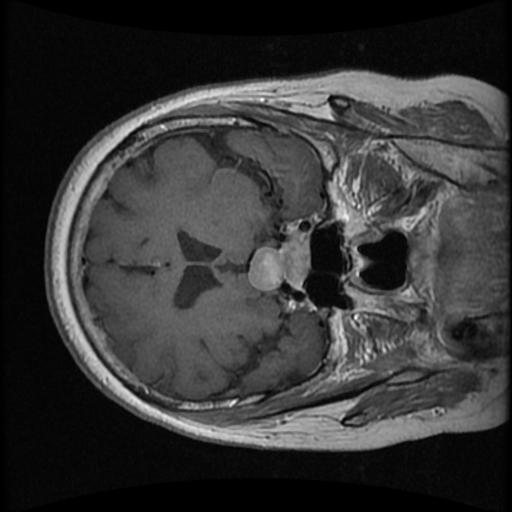pituitary tumour: (247, 233, 307, 290)
